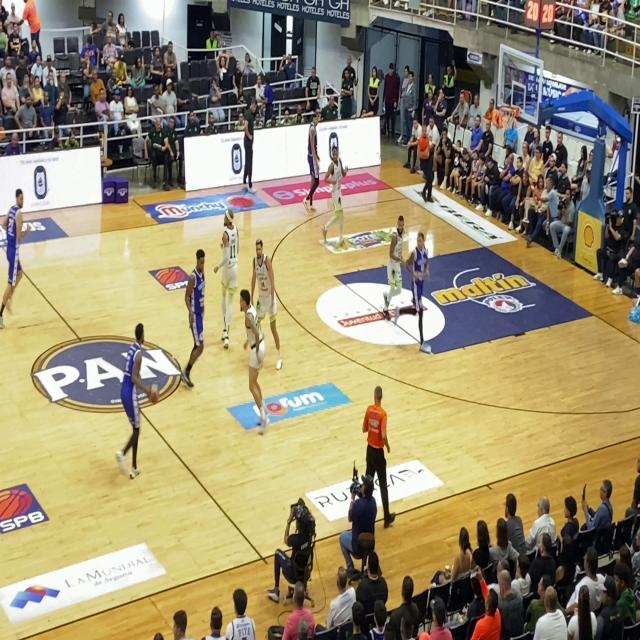Ball: (147, 378, 160, 406)
referee: (356, 377, 396, 498), (411, 119, 442, 212)
team1: (234, 277, 277, 439), (203, 202, 241, 378), (246, 227, 286, 379), (318, 133, 353, 253), (377, 209, 411, 319)
team2: (179, 231, 216, 393), (0, 145, 29, 346), (118, 317, 148, 493), (400, 220, 433, 360), (295, 110, 326, 219)
ubasket: (497, 100, 516, 133)
